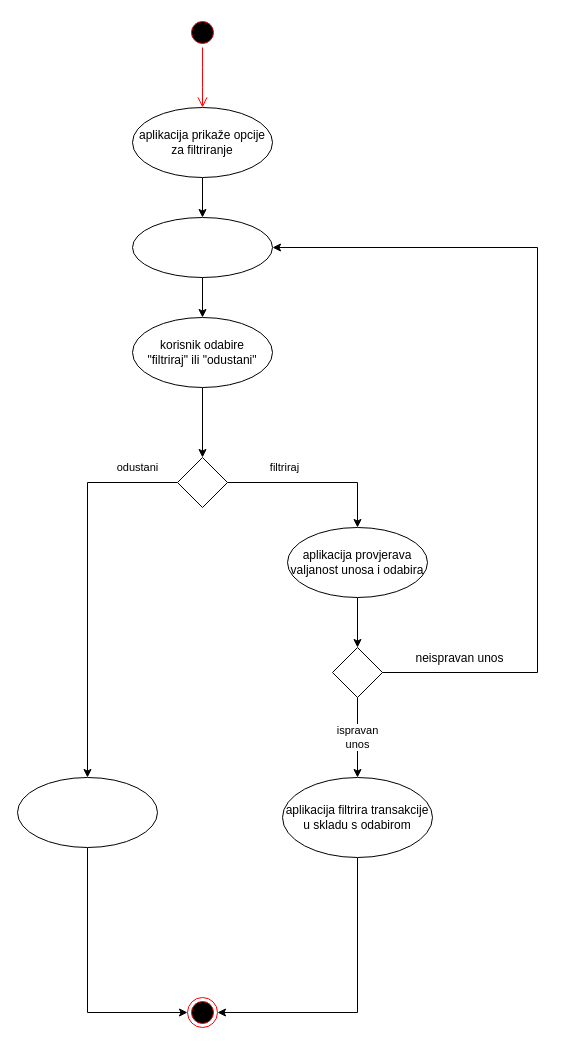
Image size: 563x1045. Some labels were removed from this diagram. Each missing label, with the centre of its shape:
"aplikacija obriše sve popunjene opcije i raspon iznosa" belongs at point 87,812.
"korisnik odabire koje kategorije uključiti i unosi raspon iznosa" belongs at point 202,247.
